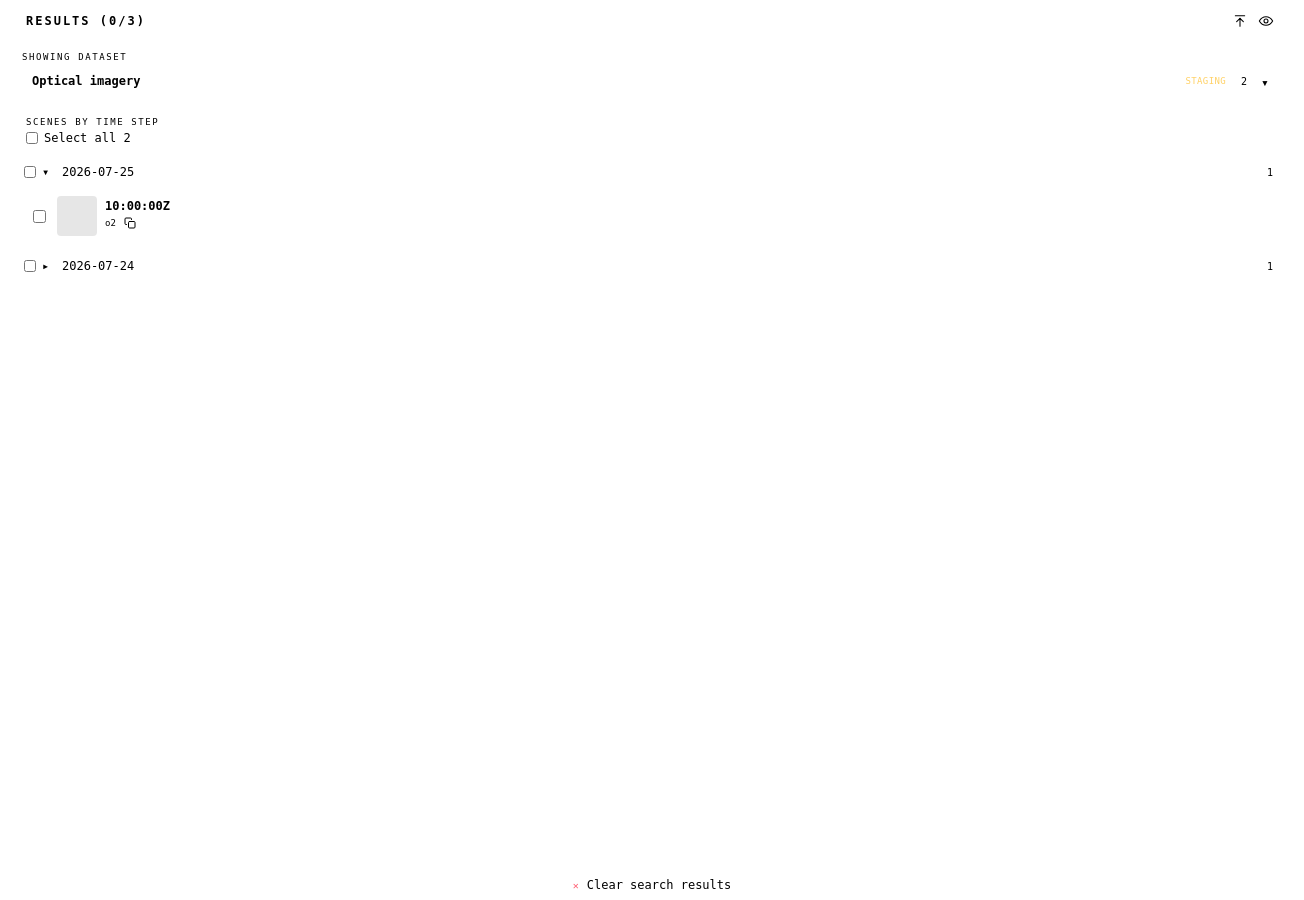
Test case: ResultsPanel dataset dropdown › shows a dataset's notes in the box and in its option of the dropdown
The image size is (1304, 900).
What coordinates should you click on to do the following:
click the button with class "dataset-select-box"
I would click on:
 (86, 81)
Its box is [22,67,1282,95].
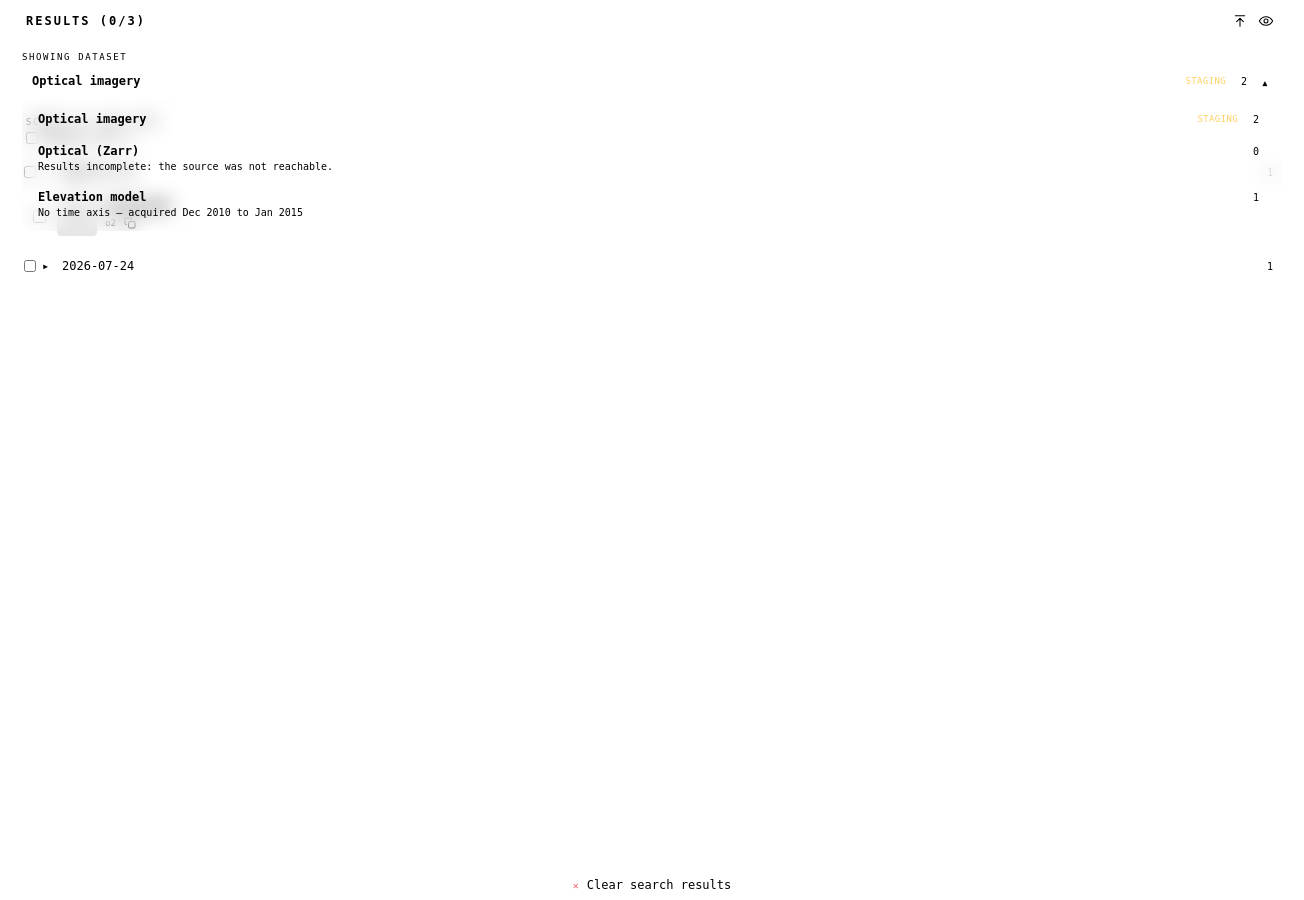
What coordinates should you click on to do the following:
click the option with class "dataset-select-option" that starts with "Elevation model"
I would click on:
 (92, 197)
Its box is [28,183,1276,225].
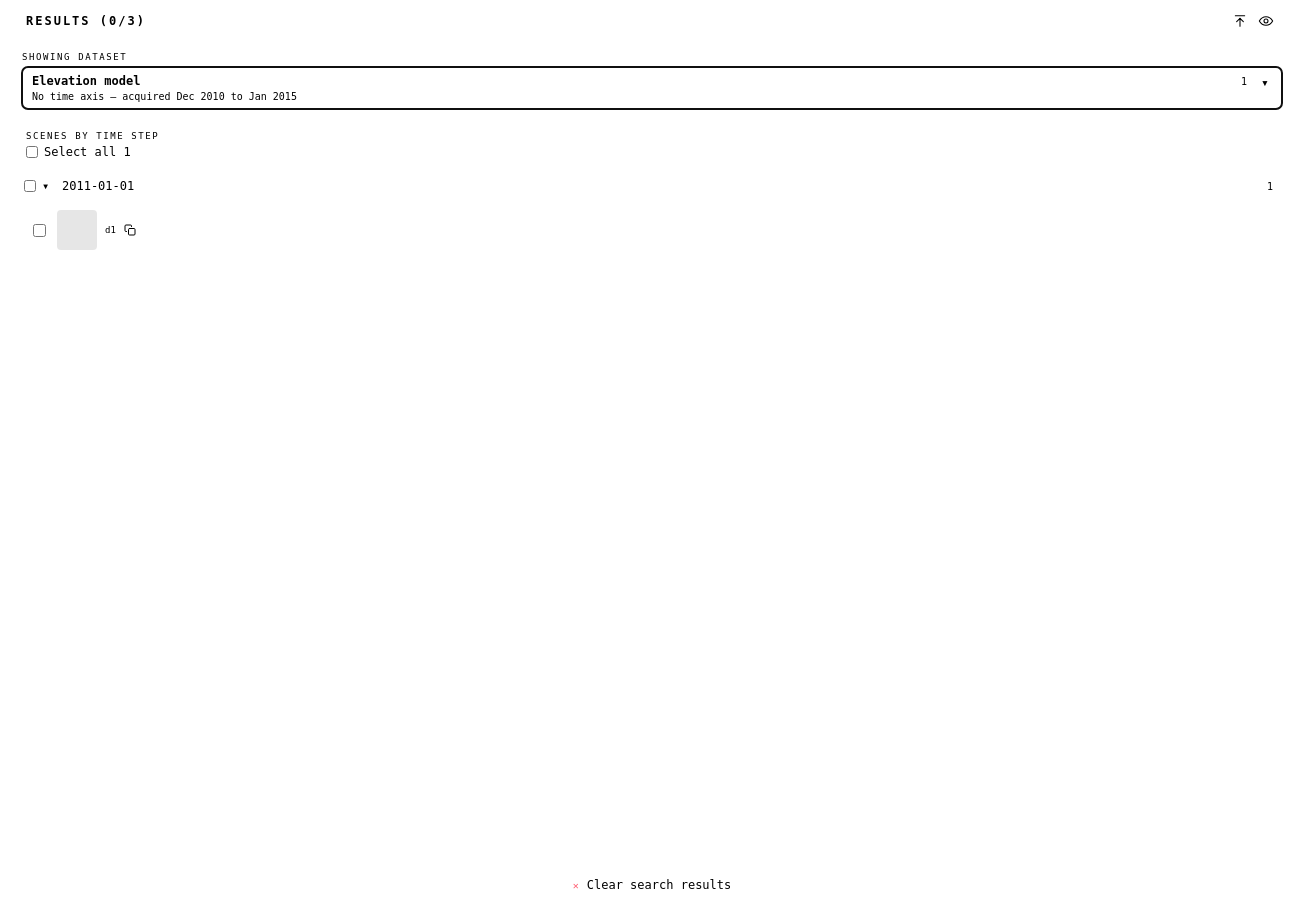
Expected: the button with class "dataset-select-box" shows "No time axis – acquired Dec 2010 to Jan 2015", [22,67,1282,109]
